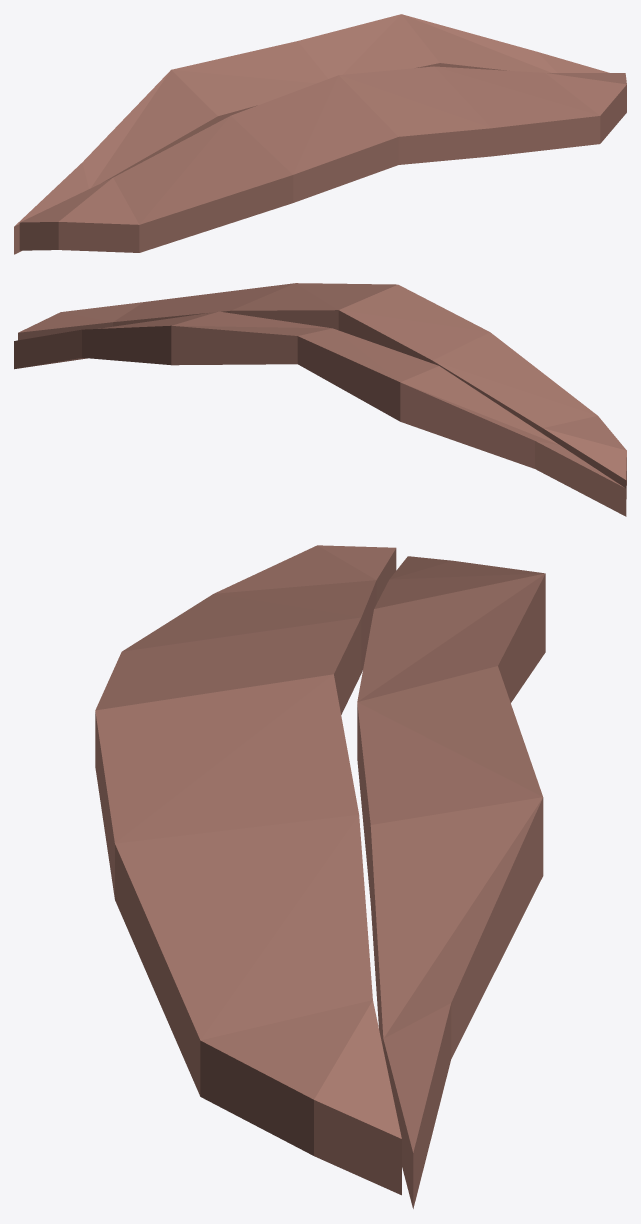
The model's file is Mouth 02.FBX.
The picture shows the model from 3 angles, top to bottom: view 1: azimuth 30°, elevation 25°; view 2: azimuth 150°, elevation 25°; view 3: azimuth 270°, elevation 25°; orthographic projection. The views are drawn at different scales.
Visible parts, largest first — view 1: Mouth 02; view 2: Mouth 02; view 3: Mouth 02.
Part boxes in pixels (x1,y1,x2,y2): Mouth 02: [14, 14, 626, 254]; Mouth 02: [14, 283, 626, 516]; Mouth 02: [95, 545, 545, 1208].
Bounding box in the file's own units: 6.59 × 1.27 × 2.1.
